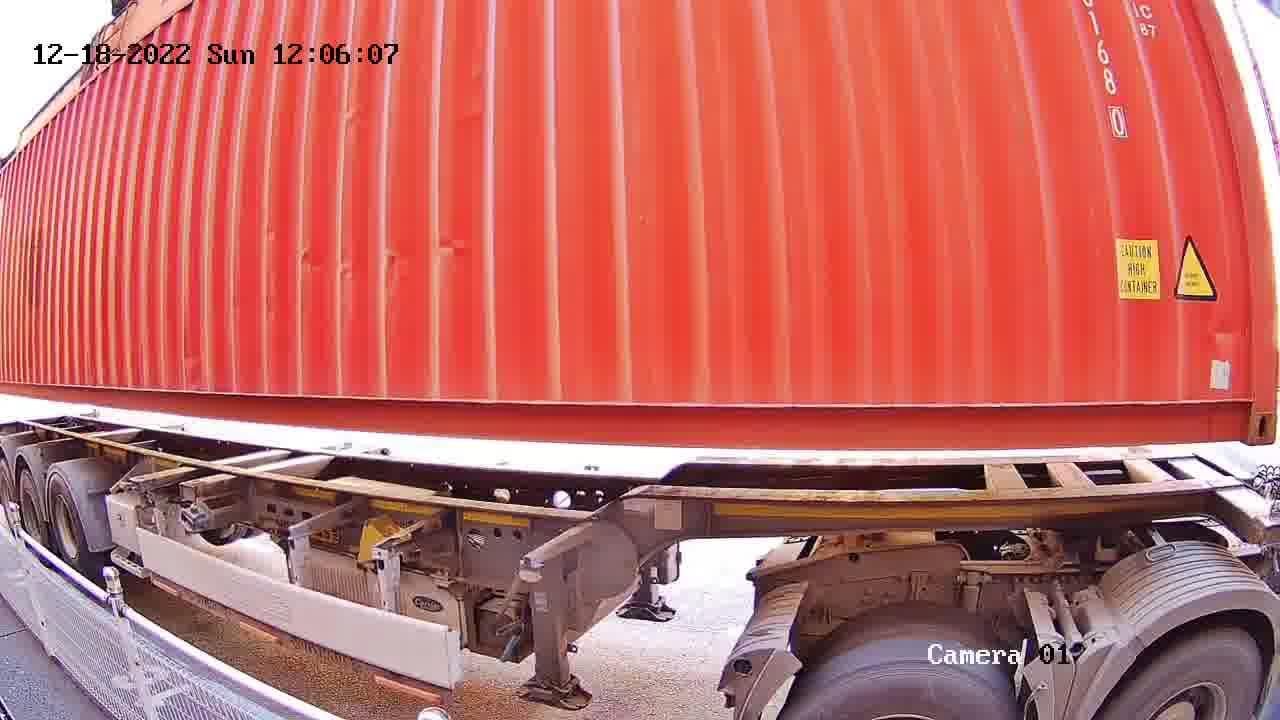Chassis: (1161, 447, 1279, 530)
Cone: (1265, 495, 1279, 539)
Hole_R: (1215, 378, 1278, 443)
Tire: (1105, 634, 1262, 715), (783, 661, 1018, 713)
